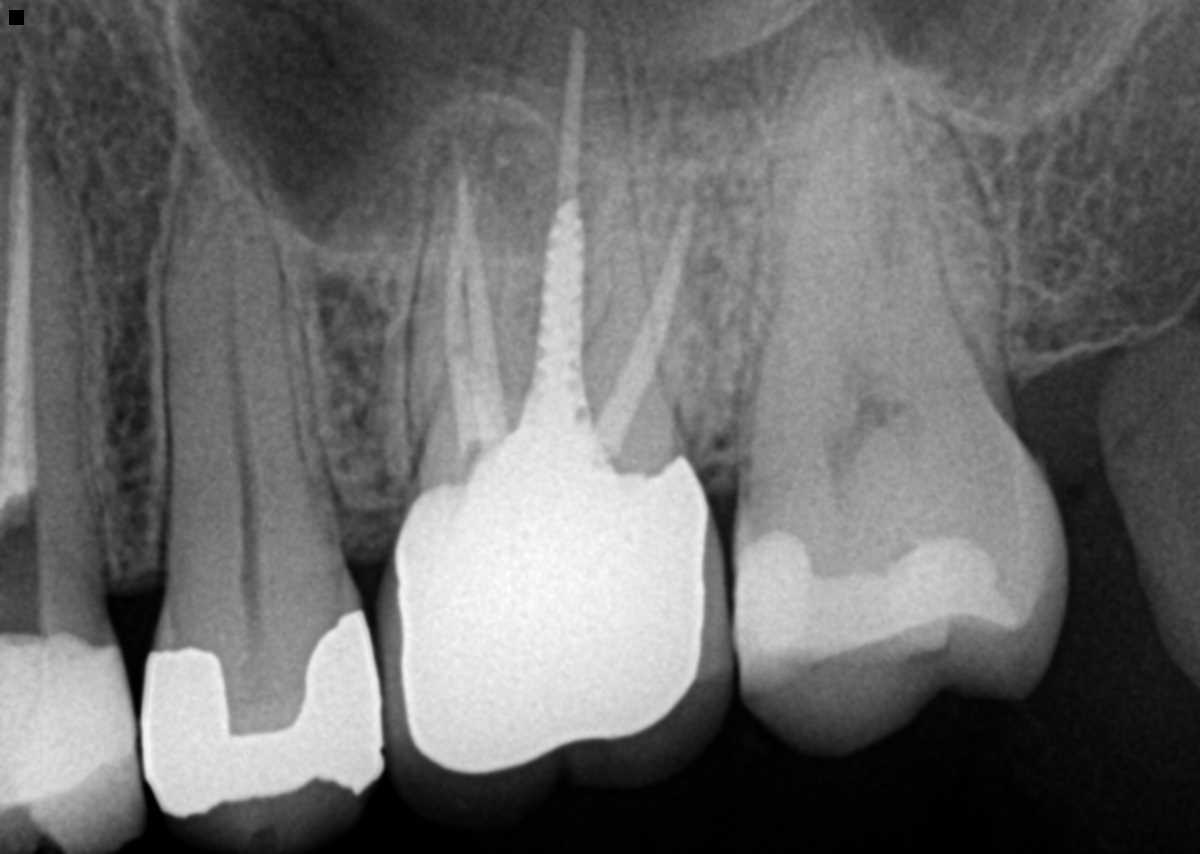Apical Lesion: (372, 88, 562, 259)
Distal Root: (573, 137, 733, 459), (863, 120, 1018, 438)
Main Canal: (219, 263, 265, 575)
Main Root: (158, 134, 342, 578), (0, 33, 115, 581)
Mesial Root: (739, 95, 910, 477), (403, 153, 524, 487)
Palatal Root: (444, 0, 684, 493), (747, 24, 987, 484)
Root Canal Filling: (597, 197, 699, 439), (0, 88, 42, 521), (446, 178, 495, 446), (551, 24, 589, 210)
